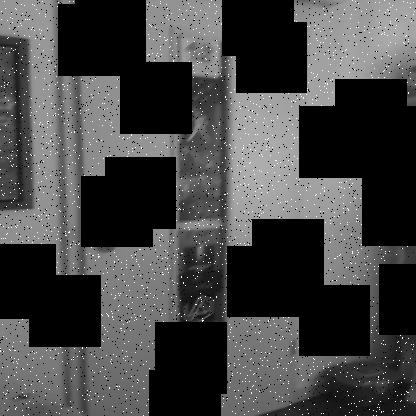Porte: (53, 0, 312, 415)
